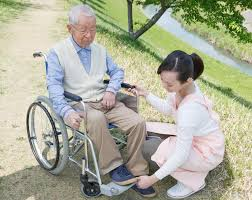wheelchair: (25, 4, 156, 197)
